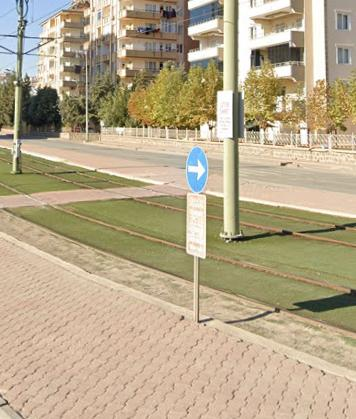turnright: (181, 145, 219, 195)
